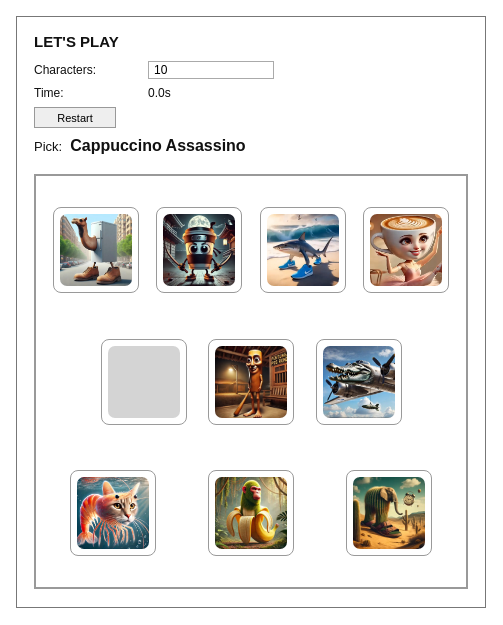
Test: App › shows game over when the player clicks the wrong point
The width and height of the screenshot is (503, 625).
Click the button "Restart": click(75, 118) [34,107,116,128]
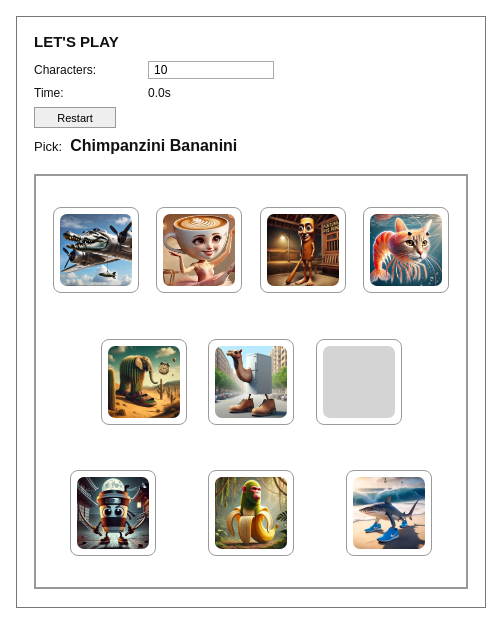
Click the button named "Cappuccino Assassino": click(113, 513) [70,470,156,556]
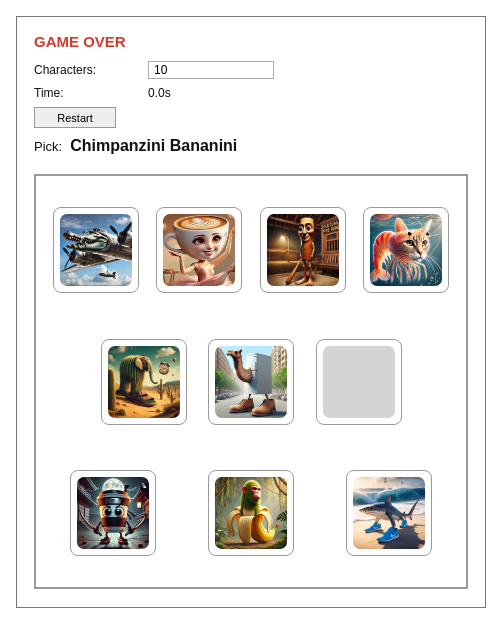
Result: the heading "GAME OVER" is shown at [34,33,126,50]
